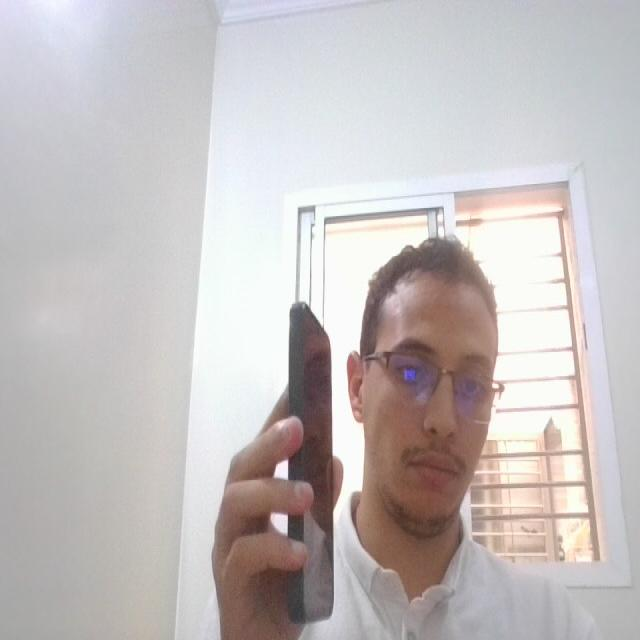phone: (278, 295, 342, 633)
